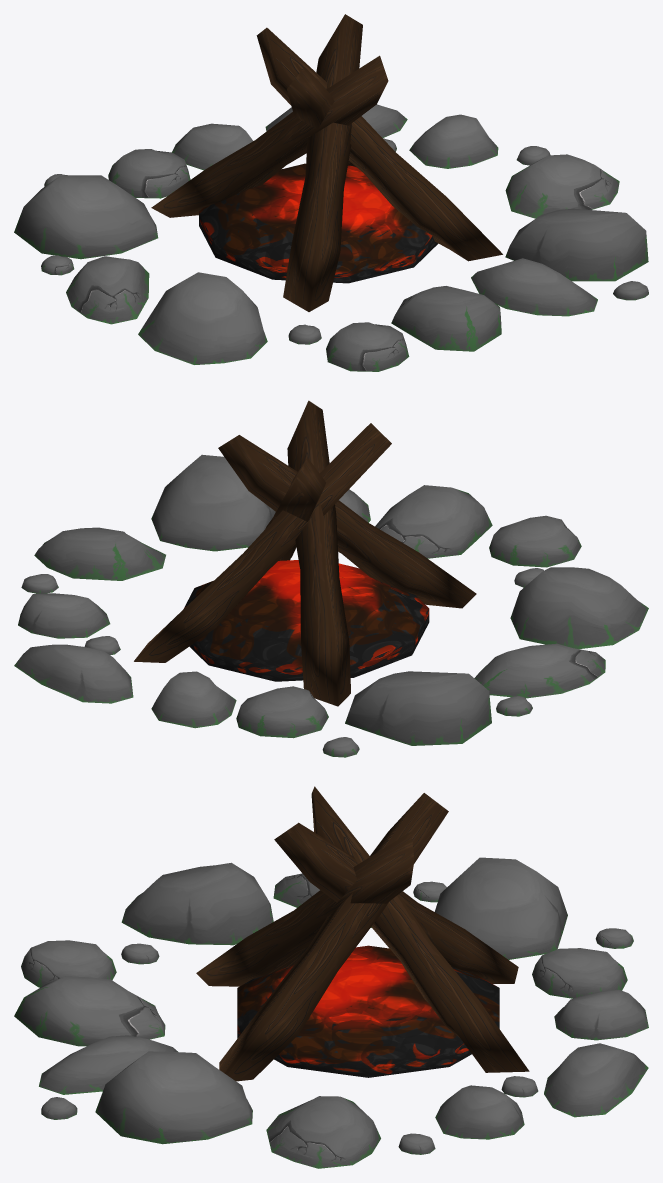
The model's file is Campfire_On.fbx.
3 renders of one model, top to bottom at view 1: azimuth 30°, elevation 25°; view 2: azimuth 150°, elevation 25°; view 3: azimuth 270°, elevation 25°, orthographic. The views are drawn at different scales.
Visible parts, largest first — view 1: Campfire_On; view 2: Campfire_On; view 3: Campfire_On.
Part boxes in pixels (x1,y1,x2,y2): Campfire_On: (14,14,648,371); Campfire_On: (14,400,648,757); Campfire_On: (14,786,648,1168).
Size of the model in its own units: 3.76 by 1.29 by 3.48.
